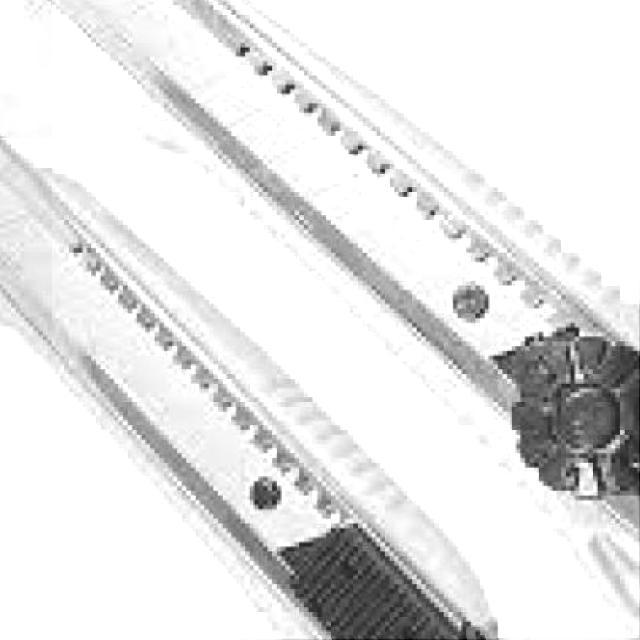estilete: (53, 0, 639, 638), (0, 139, 496, 639)
